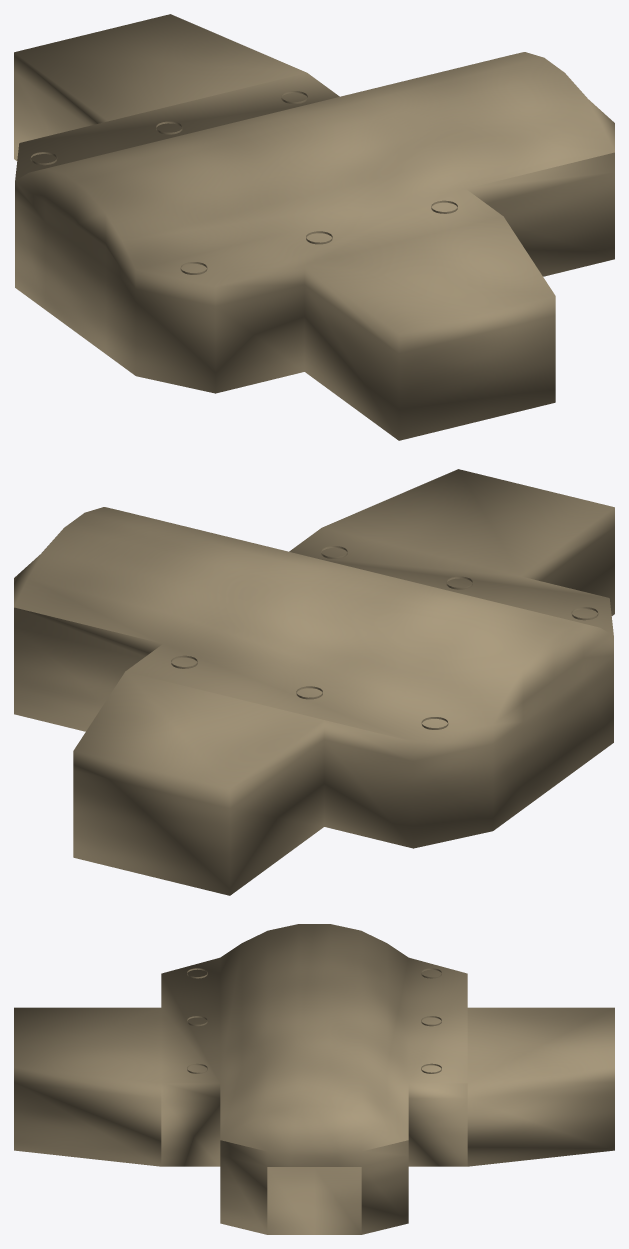
Rendered from room.glb.
3 renders of one model, top to bottom at view 1: azimuth 30°, elevation 25°; view 2: azimuth 150°, elevation 25°; view 3: azimuth 270°, elevation 25°, orthographic. The views are drawn at different scales.
Visible parts, largest first — view 1: Room.002, Pillars.001; view 2: Room.002, Pillars.001; view 3: Room.002, Pillars.001.
Boxes of the visible parts, x1,y1,x2,y2 form: Room.002: (14, 14, 614, 440); Pillars.001: (30, 91, 457, 274); Room.002: (14, 469, 614, 895); Pillars.001: (171, 546, 598, 729); Room.002: (14, 924, 614, 1234); Pillars.001: (187, 968, 441, 1073).
Bounding box in the file's own units: 43.37 × 12.53 × 56.8.
3 materials, 3 textured.
